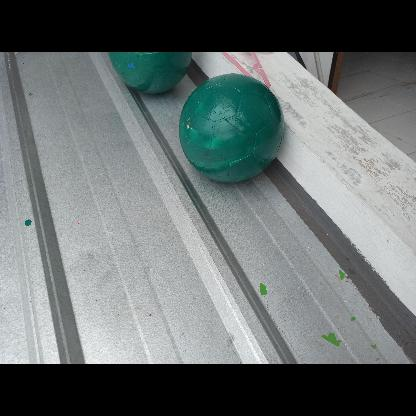green_ball: (176, 74, 284, 183)
